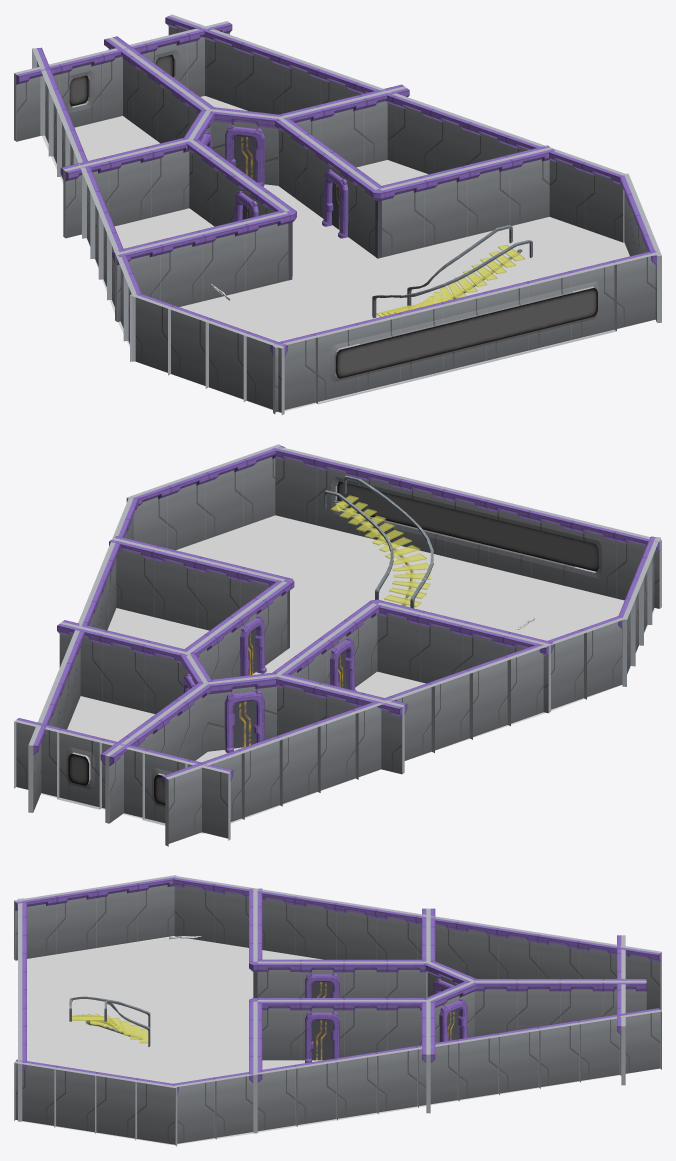
File: Planta1.fbx
The picture shows the model from 3 angles, top to bottom: view 1: azimuth 30°, elevation 25°; view 2: azimuth 150°, elevation 25°; view 3: azimuth 270°, elevation 25°; orthographic projection. The views are drawn at different scales.
Parts seen in each view (by area): view 1: Plane.004, barandilla.001, pared_exterior.247, pared_exterior.241, pared_exterior.008, pared_exterior.006, pared_exterior.245, pared_exterior.239, pared_exterior.243, pared_exterior.184, pared_exterior.004, pared_exterior.312 (+50 smaller); view 2: Plane.004, barandilla.001, pared_exterior.159, pared_exterior.167, pared_exterior.163, pared_exterior.275, pared_exterior.247, pared_exterior.288, pared_exterior.006, pared_exterior.245, pared_exterior.312, pared_exterior.171 (+53 smaller); view 3: Plane.004, pared_exterior.191, pared_exterior.205, pared_exterior.202, pared_exterior.258, pared_exterior.196, pared_exterior.259, pared_exterior.224, pared_exterior.195, pared_exterior.203, pared_exterior.211, pared_exterior.188 (+40 smaller).
Part boxes in pixels (left/top/right/bottom): Plane.004: left=118, top=184, right=653, bottom=412; barandilla.001: left=372, top=225, right=532, bottom=318; pared_exterior.247: left=443, top=294, right=488, bottom=372; pared_exterior.241: left=486, top=283, right=530, bottom=362; pared_exterior.008: left=529, top=273, right=573, bottom=352; pared_exterior.006: left=401, top=304, right=445, bottom=383; pared_exterior.245: left=358, top=315, right=402, bottom=393; pared_exterior.239: left=571, top=262, right=616, bottom=341; pared_exterior.243: left=316, top=325, right=360, bottom=404; pared_exterior.184: left=205, top=320, right=246, bottom=401; pared_exterior.004: left=614, top=252, right=658, bottom=330; pared_exterior.312: left=243, top=211, right=288, bottom=290; Plane.004: left=176, top=515, right=655, bottom=711; barandilla.001: left=323, top=475, right=433, bottom=608; pared_exterior.159: left=57, top=730, right=101, bottom=809; pared_exterior.167: left=431, top=671, right=472, bottom=752; pared_exterior.163: left=279, top=724, right=320, bottom=806; pared_exterior.275: left=102, top=632, right=147, bottom=711; pared_exterior.247: left=445, top=488, right=490, bottom=566; pared_exterior.288: left=154, top=548, right=199, bottom=627; pared_exterior.006: left=488, top=498, right=532, bottom=577; pared_exterior.245: left=531, top=508, right=575, bottom=587; pared_exterior.312: left=377, top=602, right=421, bottom=681; pared_exterior.171: left=584, top=617, right=624, bottom=699; Plane.004: left=22, top=936, right=254, bottom=1144; pared_exterior.191: left=539, top=1022, right=580, bottom=1088; pared_exterior.205: left=296, top=1060, right=337, bottom=1126; pared_exterior.202: left=377, top=1047, right=418, bottom=1113; pared_exterior.258: left=95, top=1074, right=136, bottom=1140; pared_exterior.196: left=458, top=1035, right=499, bottom=1101; pared_exterior.259: left=136, top=1080, right=177, bottom=1146; pared_exterior.224: left=55, top=1067, right=95, bottom=1132; pared_exterior.195: left=499, top=1029, right=540, bottom=1093; pared_exterior.203: left=337, top=1054, right=377, bottom=1118; pared_exterior.211: left=175, top=1079, right=215, bottom=1145; pared_exterior.188: left=620, top=1010, right=661, bottom=1075.
Size of the model in its own units: 2337 by 372 by 3002.
Materials: 6 (4 with a texture image).
